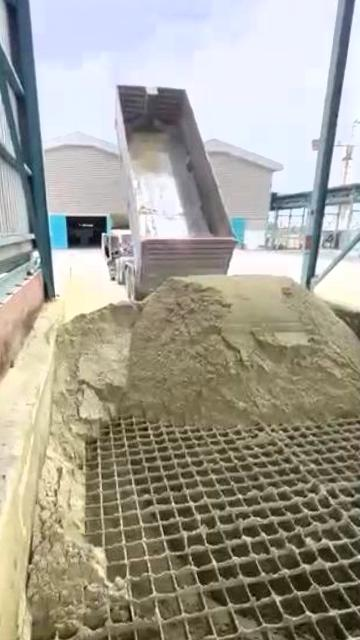sand: (30, 276, 360, 635)
